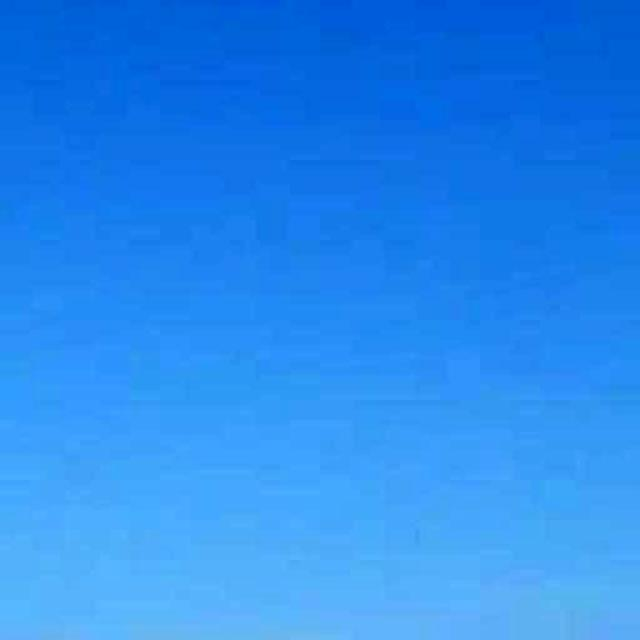drone: (382, 495, 452, 571)
